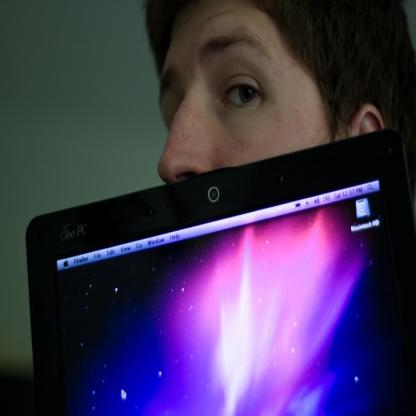board: (25, 131, 416, 416)
